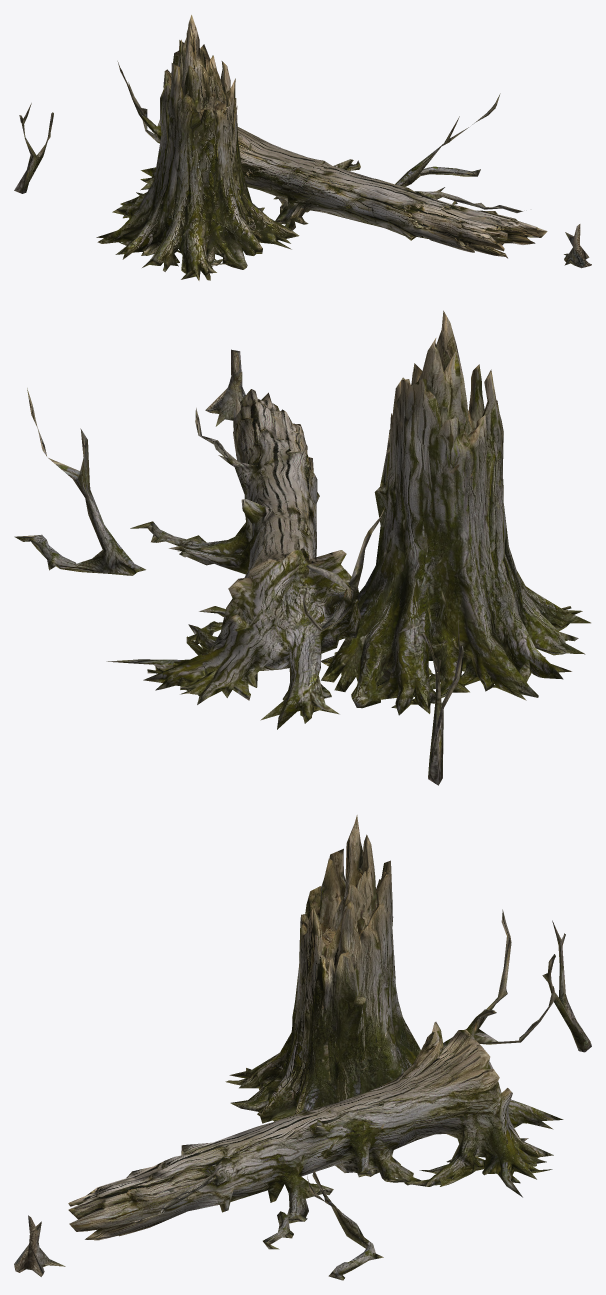
File: tree_remnant.glb
3 renders of one model, top to bottom at view 1: azimuth 30°, elevation 25°; view 2: azimuth 150°, elevation 25°; view 3: azimuth 270°, elevation 25°, orthographic. The views are drawn at different scales.
Visible parts, largest first — view 1: tree_remnant; view 2: tree_remnant; view 3: tree_remnant.
Part boxes in pixels (box(x1,y1,x2,y2)): tree_remnant: box(14, 15, 591, 280); tree_remnant: box(14, 310, 590, 785); tree_remnant: box(14, 815, 591, 1280).
Bounding box in the file's own units: 187 × 104 × 189.
1 material, 1 textured.
